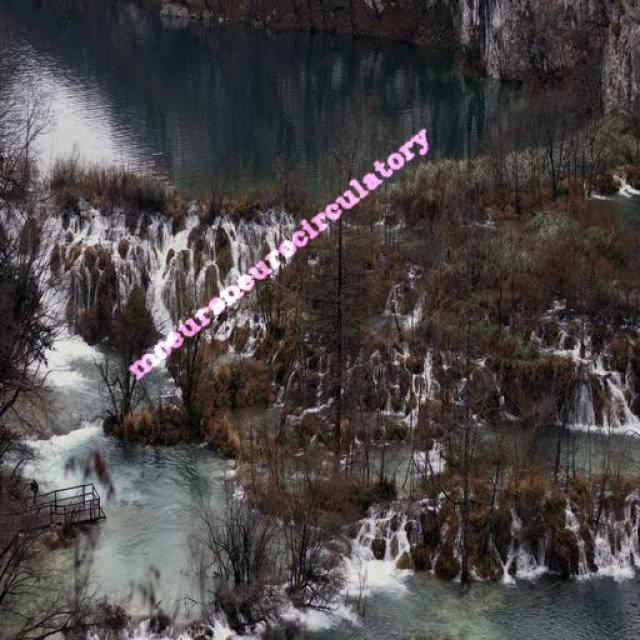watermark: (128, 118, 432, 383)
